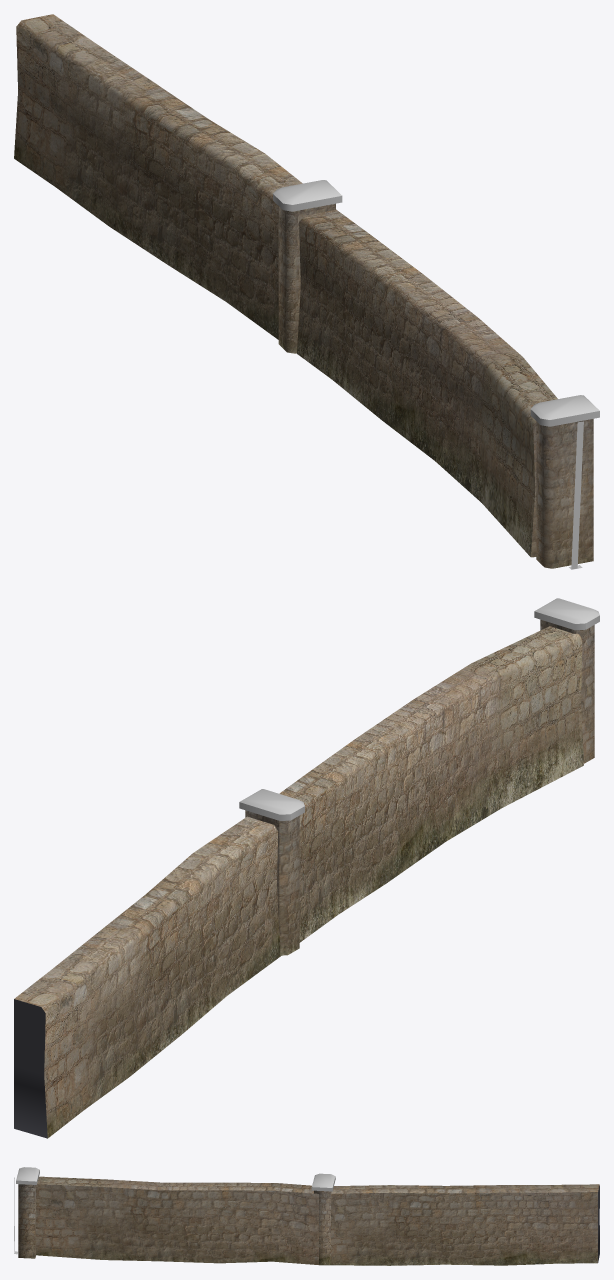
Rendered from farm wall.dae.
The picture shows the model from 3 angles, top to bottom: view 1: azimuth 30°, elevation 25°; view 2: azimuth 150°, elevation 25°; view 3: azimuth 270°, elevation 25°; orthographic projection. The views are drawn at different scales.
Visible parts, largest first — view 1: meshU3D; view 2: meshU3D; view 3: meshU3D.
Boxes of the visible parts, box(x1,y1,x2,y2) form: meshU3D: box(14, 14, 599, 569); meshU3D: box(14, 598, 599, 1138); meshU3D: box(14, 1167, 599, 1265).
Size of the model in its own units: 76.19 by 139 by 895.
